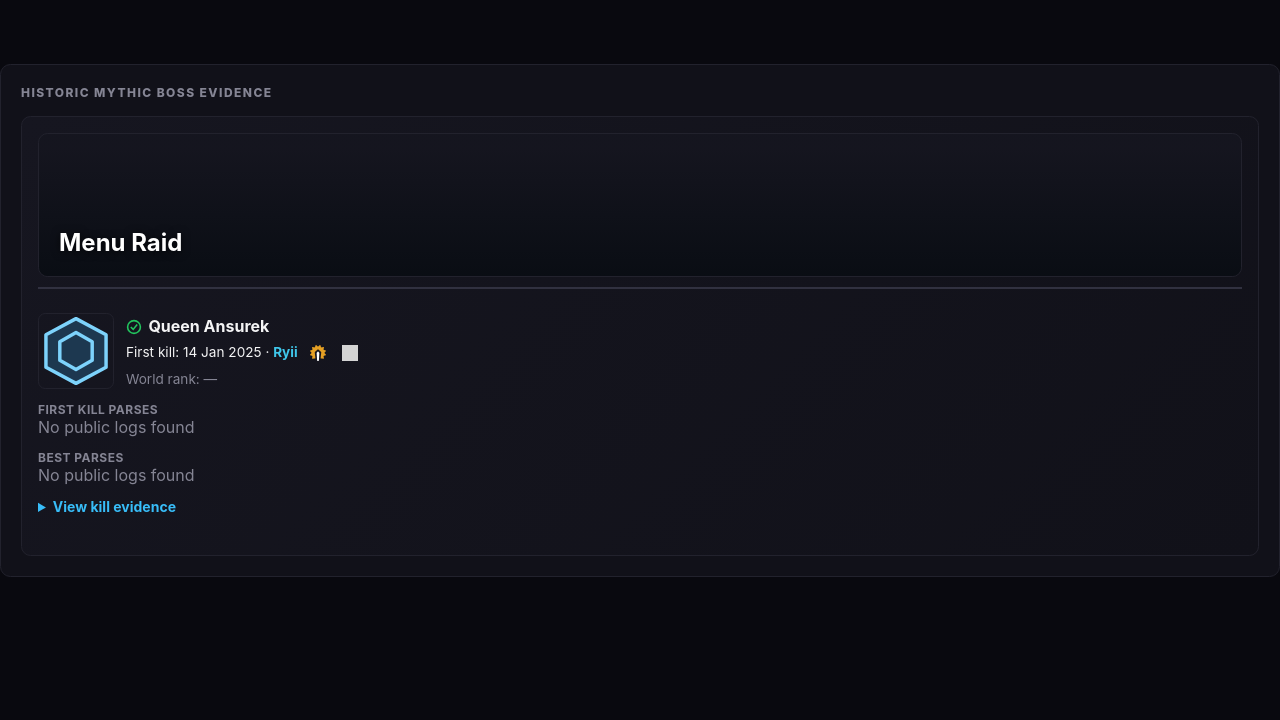
Test: opens duplicate kill reports on hover with guild and uploader labels
Click the heading "View kill evidence". click: (114, 506)
box: [53, 498, 176, 515]
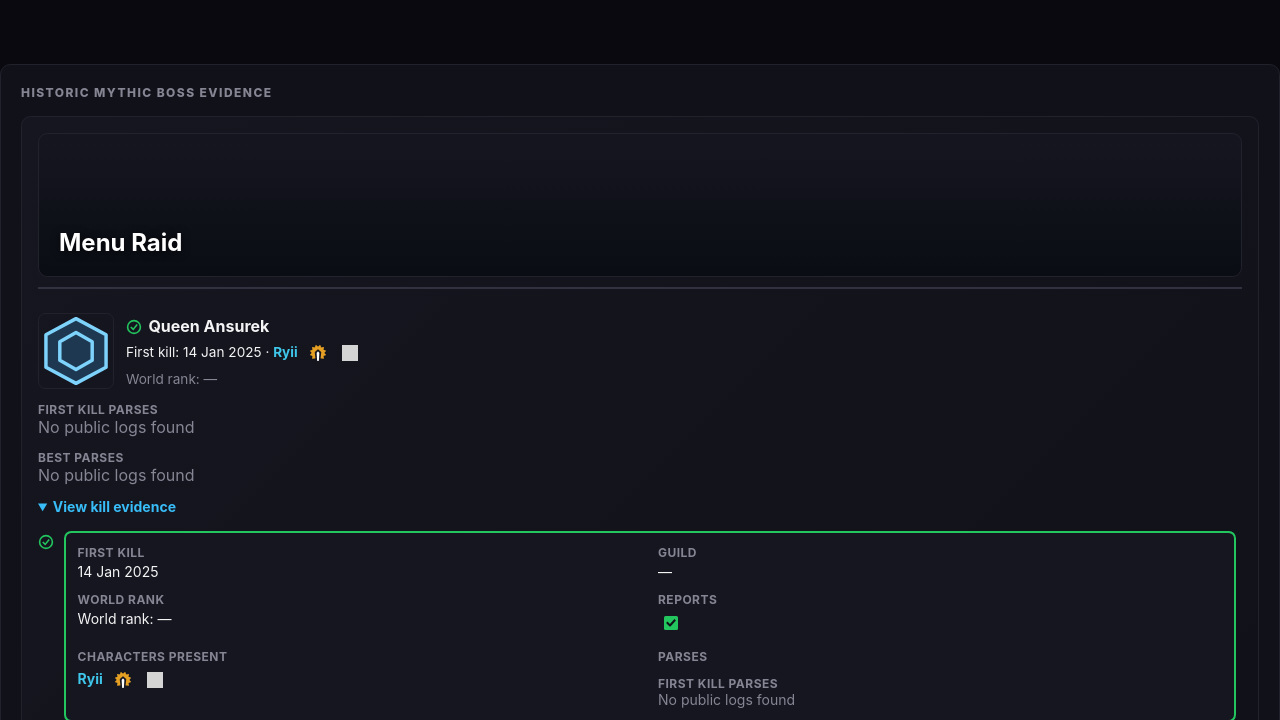
Expected: the link "guild log" is not shown
Hover over the button named "Choose from 3 kill reports" at (671, 623), box [658, 610, 684, 637]
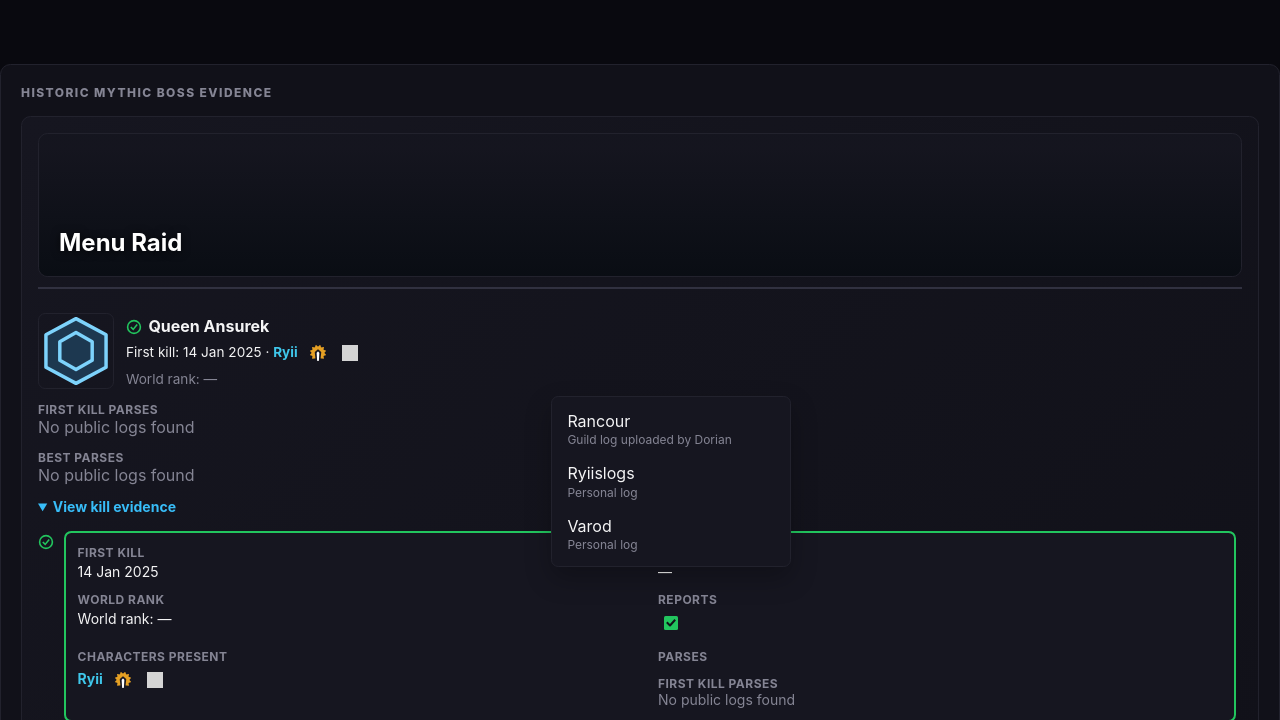
Expected: the link with aria-label "Rancour — Guild log uploaded by Dorian" is shown, [567, 411, 732, 447]
Expected: the link with aria-label "Ryiislogs, personal log" is shown, [567, 463, 638, 500]
